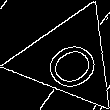O_NE: (32, 26, 105, 92)
